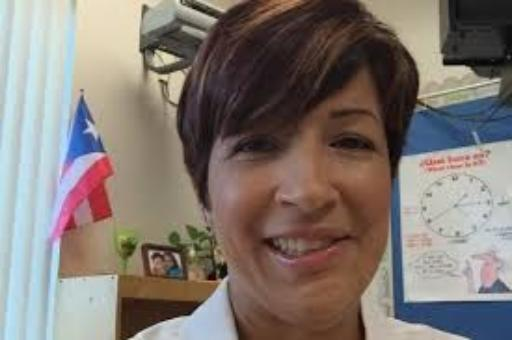left_eye: (328, 136, 379, 155)
left_lip_corner: (338, 231, 361, 248)
right_eye: (228, 137, 284, 159)
right_lip_corner: (256, 233, 278, 252)
